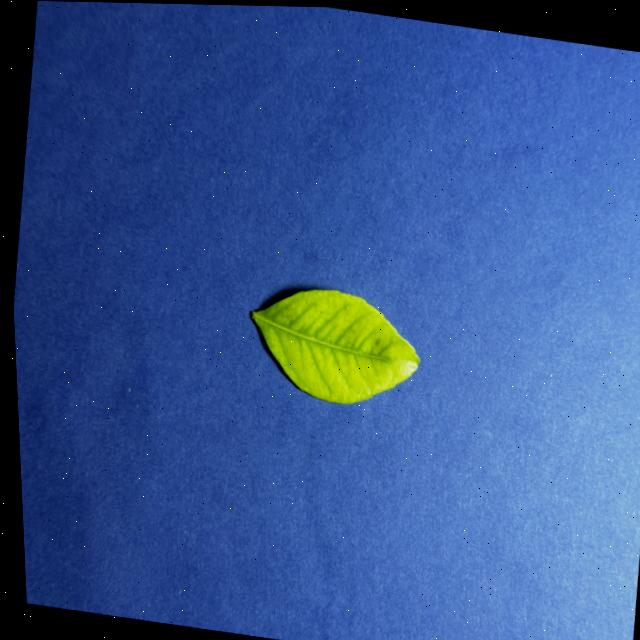greening: (252, 288, 419, 402)
